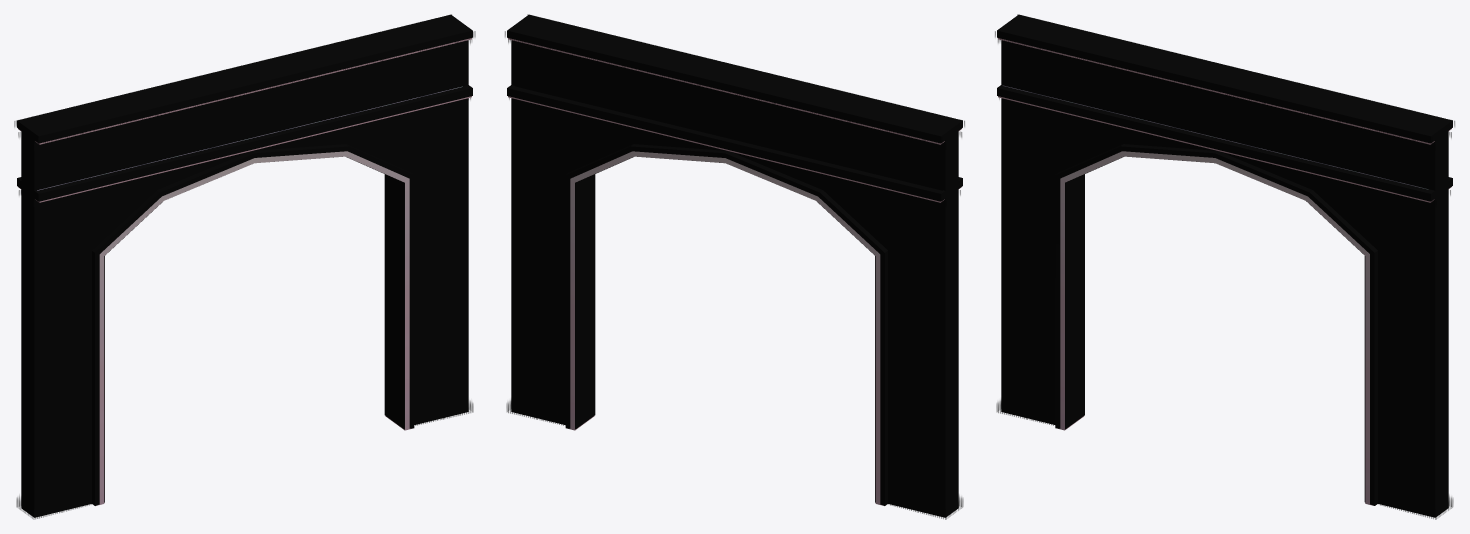
The model's file is Arc.glb.
3 views of the same model, side by side, from view 1: azimuth 30°, elevation 25°; view 2: azimuth 150°, elevation 25°; view 3: azimuth 330°, elevation 25° (orthographic).
Visible parts, largest first — view 1: Arc; view 2: Arc; view 3: Arc.
Boxes of the visible parts, x1,y1,x2,y2 form: Arc: [14, 14, 475, 519]; Arc: [505, 14, 964, 519]; Arc: [995, 14, 1454, 519].
Size of the model in its own units: 4.24 by 3.55 by 0.3863.
Materials: 3 (2 with a texture image).
